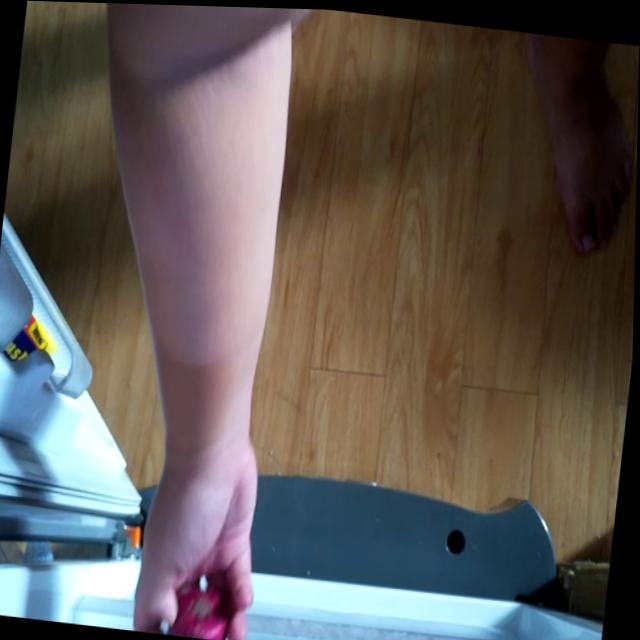onion: (167, 573, 237, 640)
